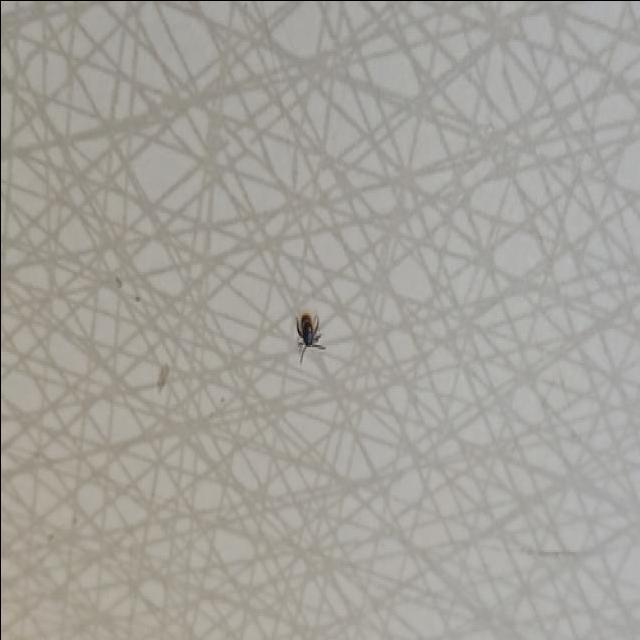Ixodes Ricinus-M: (294, 312, 326, 364)
